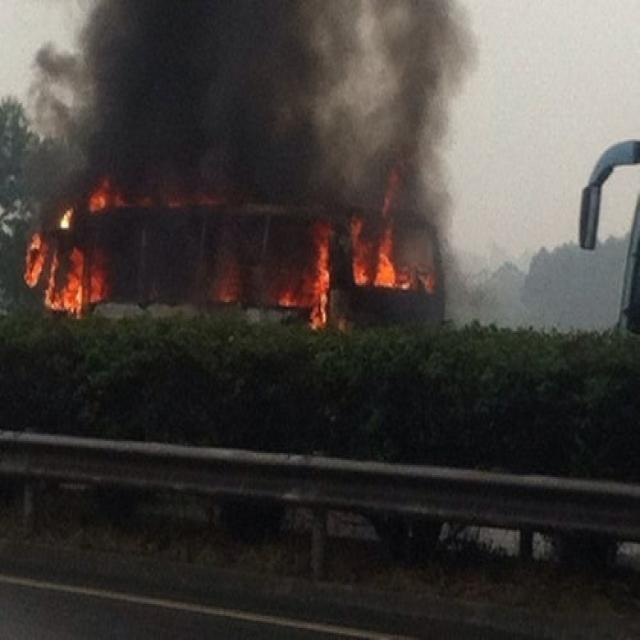Fire: (22, 187, 106, 319), (350, 212, 436, 292), (278, 220, 329, 332)
Smoke: (22, 1, 480, 178)
